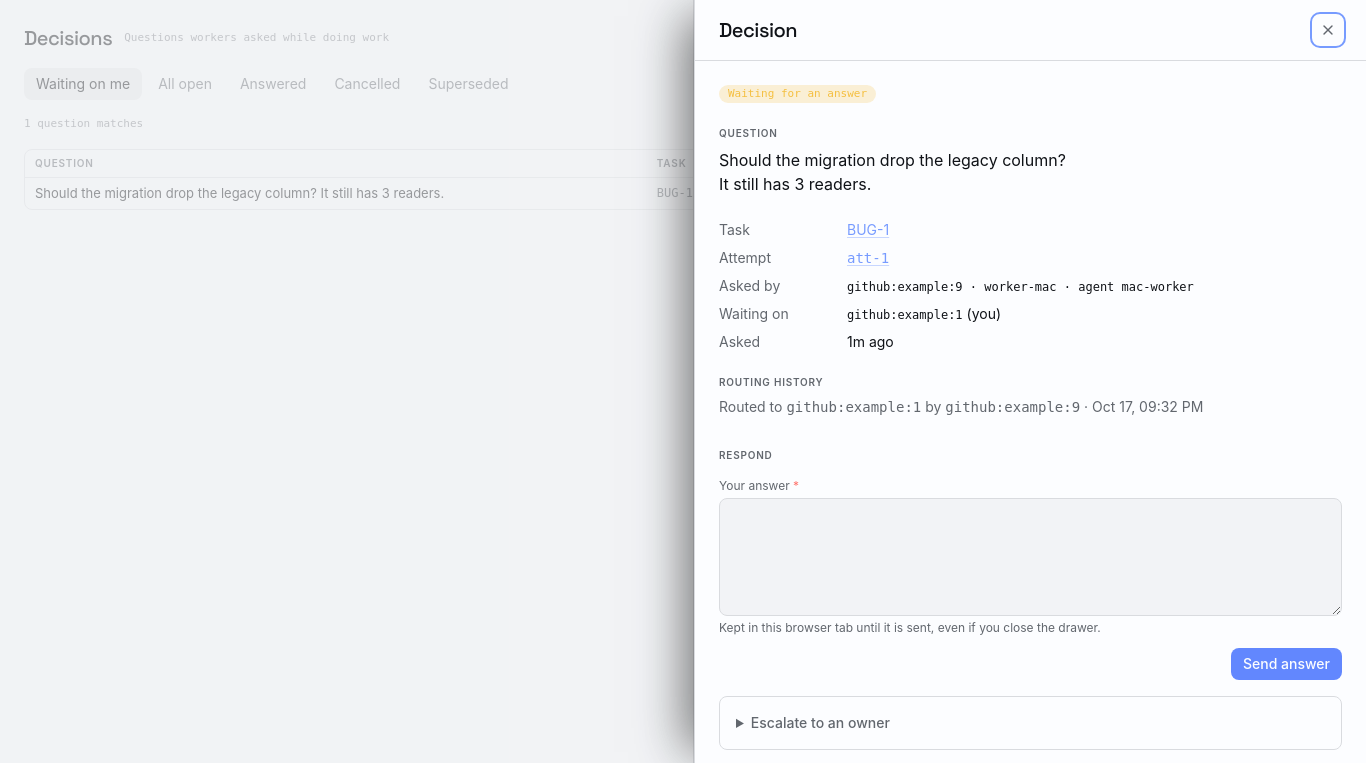
a superseded question keeps the unsent answer visible
Type "Drop it" into the text box labelled "Your answer *".
click(1030, 557); type("Drop it")  # box [719,498,1342,616]
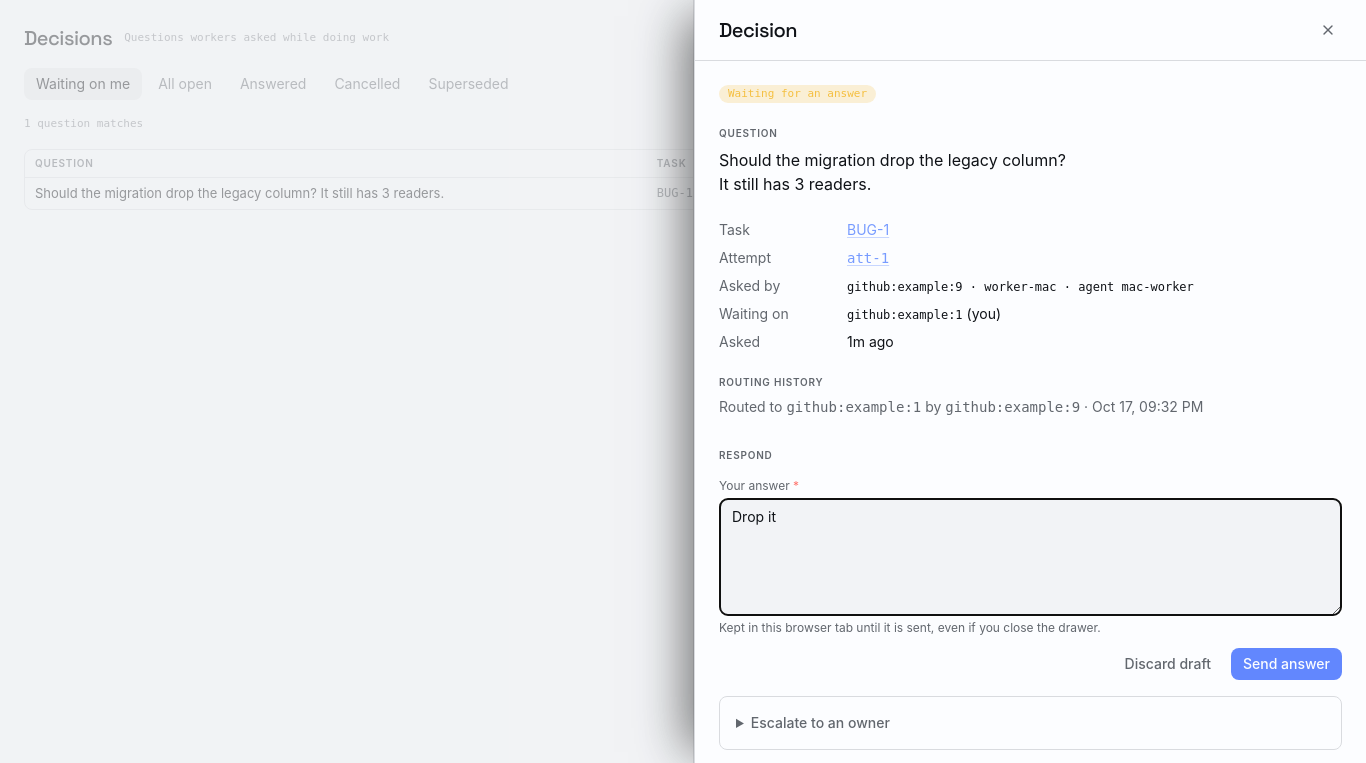
Click the button "Send answer".
click(1286, 664)  # box [1231,648,1342,680]
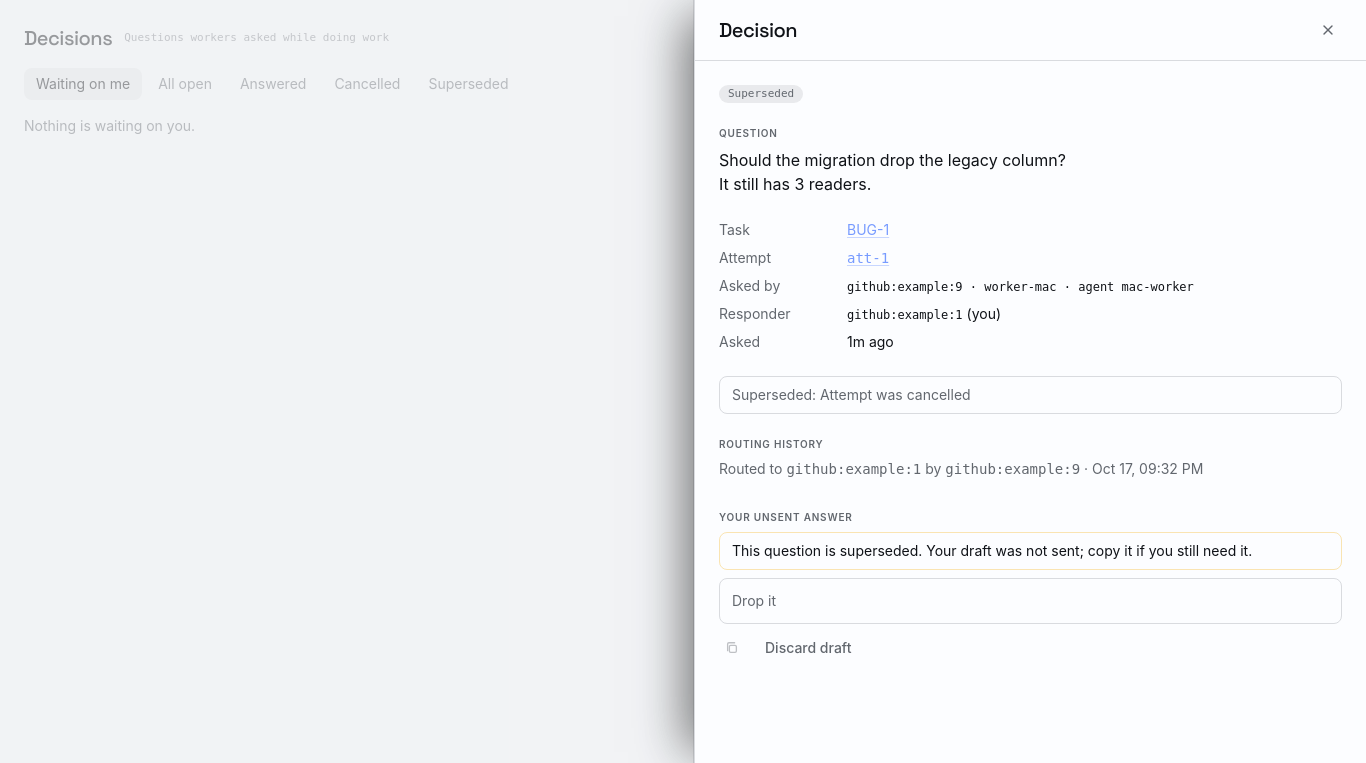
Check: the text "Drop it" is shown, box [719,578,1342,624]
Check: the text "This question is superseded." is shown, box [732,542,922,559]
Check: the text "Superseded: Attempt was cancelled" is shown, box [719,376,1342,414]
